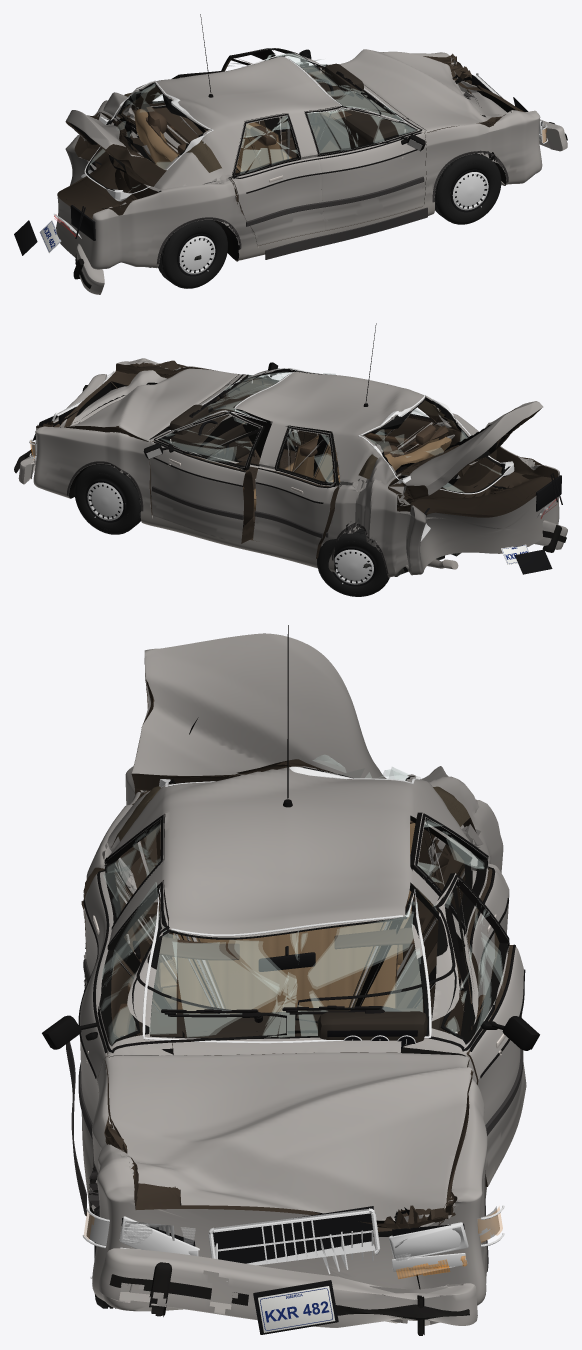
File: sedan87_rear_corner_d2.glb
3 renders of one model, top to bottom at view 1: azimuth 30°, elevation 25°; view 2: azimuth 150°, elevation 25°; view 3: azimuth 270°, elevation 25°, orthographic. The views are drawn at different scales.
Parts seen in each view (by area): view 1: Body, Door_FR, Hood, Interior, Door_RR, Wheel_FR_mesh, Glass, Wheel_RR_mesh, Trunk, Trim, Ends, Trim_FR (+6 smaller); view 2: Body, Door_FL, Hood, Door_RL, Interior, Trunk, Wheel_FL_mesh, Wheel_RL_mesh, Glass, Ends, Trim_FL, Trim_RL (+10 smaller); view 3: Body, Hood, Trunk, Interior, Glass, Ends, Bumper_F, Door_FL, Door_FR, Door_RL, Trim_FR, Trim_FL (+8 smaller).
Boxes of the visible parts, box(x1,y1,x2,y2) form: Body: box(56, 52, 542, 269); Door_FR: box(304, 106, 426, 230); Hood: box(339, 49, 507, 132); Interior: box(134, 63, 407, 173); Door_RR: box(229, 113, 325, 245); Wheel_FR_mesh: box(435, 153, 501, 224); Glass: box(84, 53, 406, 201); Wheel_RR_mesh: box(158, 220, 227, 288); Trunk: box(65, 110, 166, 186); Trim: box(157, 14, 508, 264); Ends: box(14, 73, 547, 255); Trim_FR: box(305, 92, 425, 207); Body: box(33, 358, 559, 577); Door_FL: box(149, 412, 264, 543); Hood: box(64, 368, 238, 441); Door_RL: box(253, 426, 339, 559); Interior: box(169, 382, 451, 509); Trunk: box(388, 401, 543, 501); Wheel_FL_mesh: box(74, 464, 140, 534); Wheel_RL_mesh: box(317, 528, 389, 596); Glass: box(169, 368, 514, 494); Ends: box(29, 370, 562, 574); Trim_FL: box(143, 405, 262, 527); Trim_RL: box(254, 427, 336, 538); Body: box(81, 766, 503, 1325); Hood: box(105, 1052, 473, 1236); Trunk: box(131, 633, 448, 790); Interior: box(129, 820, 444, 1055); Glass: box(142, 755, 431, 1043); Ends: box(82, 1205, 504, 1334); Bumper_F: box(98, 1248, 477, 1335); Door_FL: box(402, 873, 526, 1186); Door_FR: box(80, 880, 172, 1189); Door_RL: box(410, 812, 509, 1035); Trim_FR: box(42, 882, 286, 1140); Trim_FL: box(295, 874, 539, 1135).
Bounding box in the file's own units: 4.92 × 2.19 × 2.1.
Materials: 33 (5 with a texture image).
